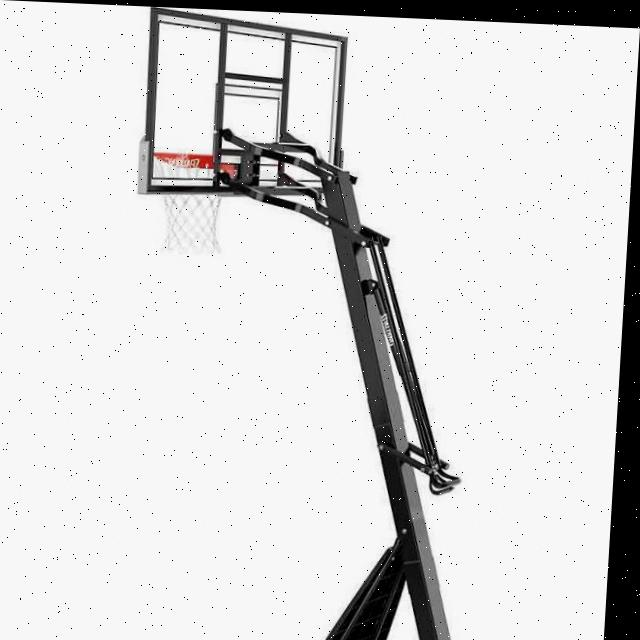hoop: (127, 119, 255, 268)
